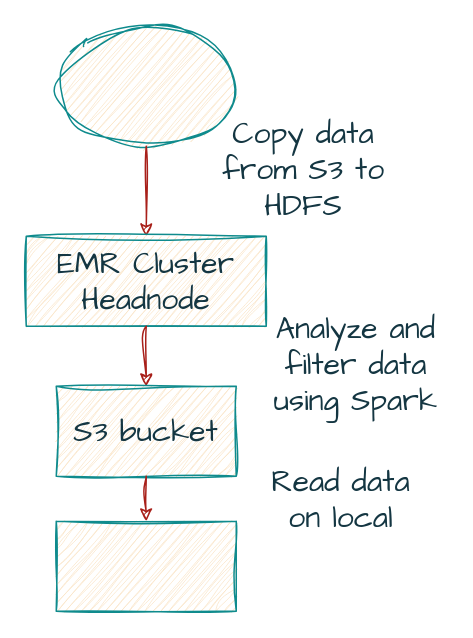
This 473x638 diagram has some shape labels left out. Each missing label, with the centre of its shape:
AWS S3: (145,85)
Local Machine: (145,565)
